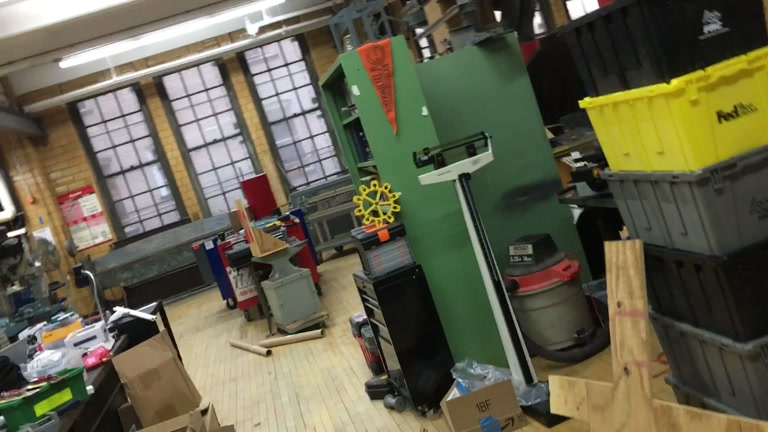gear: (353, 179, 400, 226)
